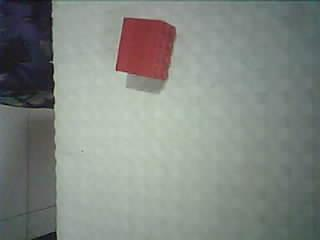lego: (113, 15, 177, 81)
